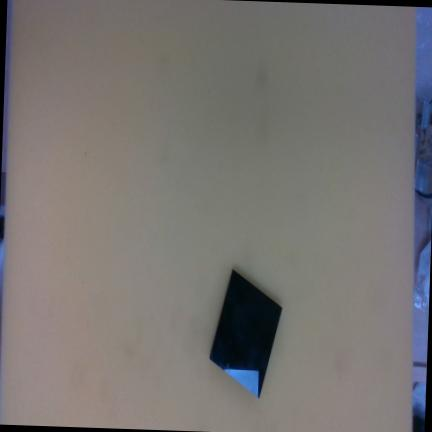tile: (202, 270, 289, 400)
